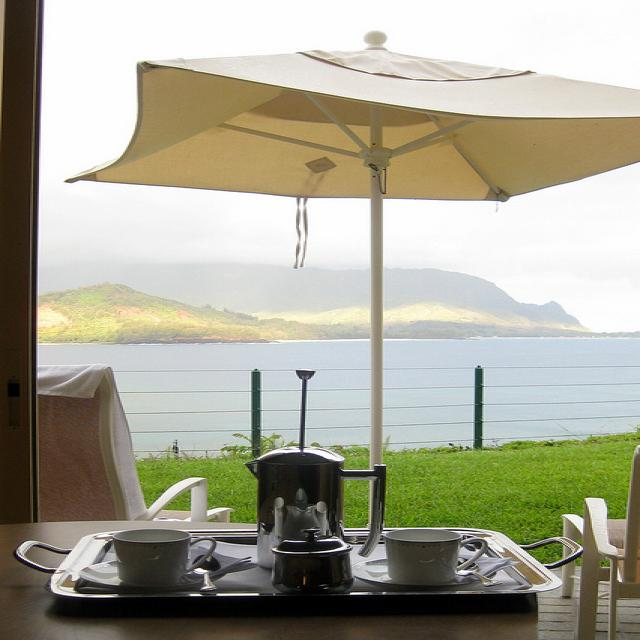chair: (36, 364, 236, 524), (559, 444, 640, 640)
dining table: (5, 450, 588, 639)
